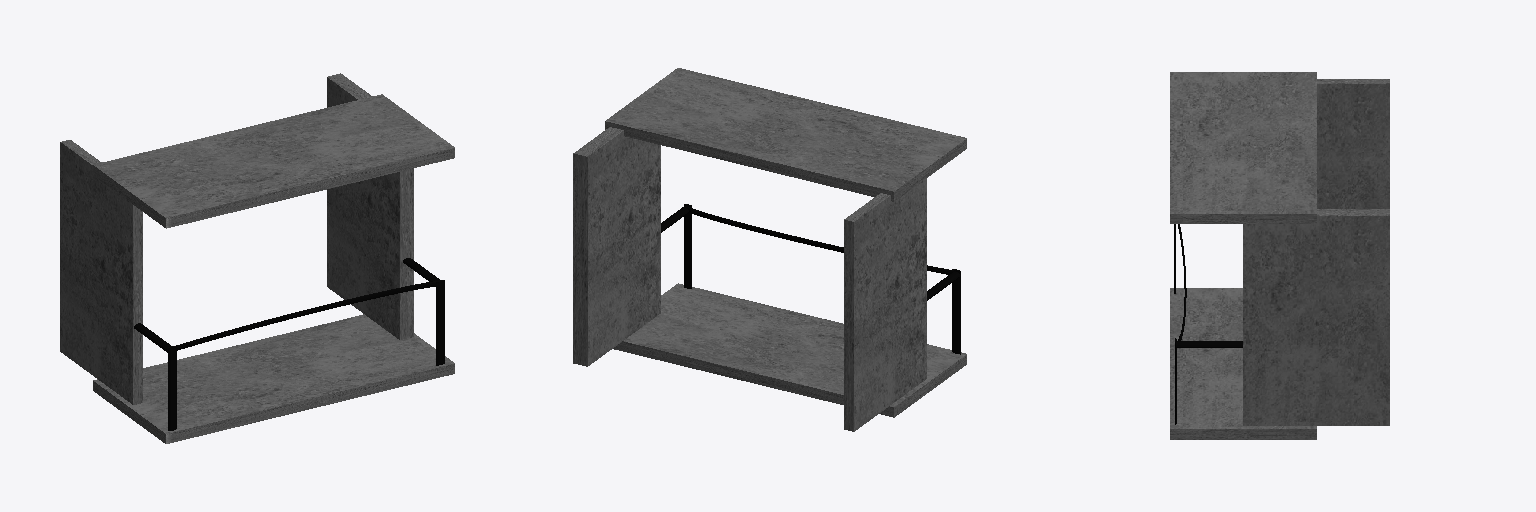
3 renders of one model, left to right at view 1: azimuth 30°, elevation 25°; view 2: azimuth 150°, elevation 25°; view 3: azimuth 270°, elevation 25°, orthographic.
Parts seen in each view (by area): view 1: Cube.207_Cube.214; view 2: Cube.207_Cube.214; view 3: Cube.207_Cube.214.
Part boxes in pixels (bbox=[...]): Cube.207_Cube.214: bbox=[60, 73, 454, 443]; Cube.207_Cube.214: bbox=[573, 68, 966, 431]; Cube.207_Cube.214: bbox=[1170, 72, 1389, 439].
Bounding box in the file's own units: 3.62 × 2.7 × 2.37.
2 materials, 1 textured.